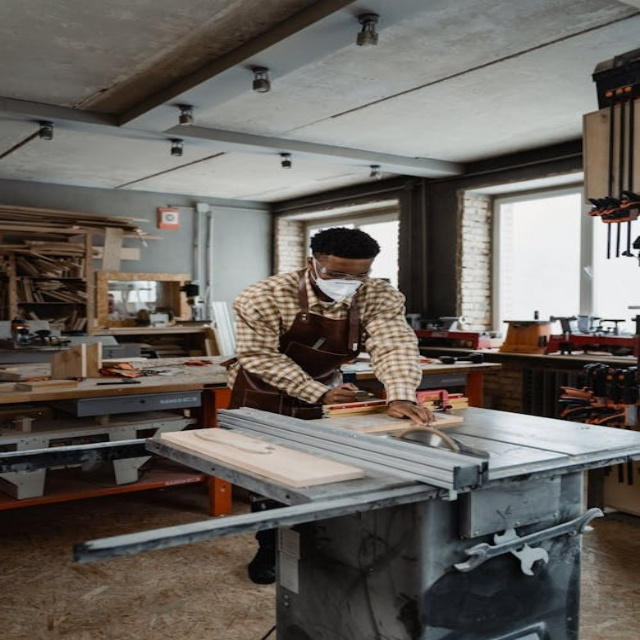Gafas: (315, 258, 372, 280)
Mascara: (310, 263, 365, 302)
Sin_guantes: (387, 400, 435, 426), (322, 384, 363, 405)
